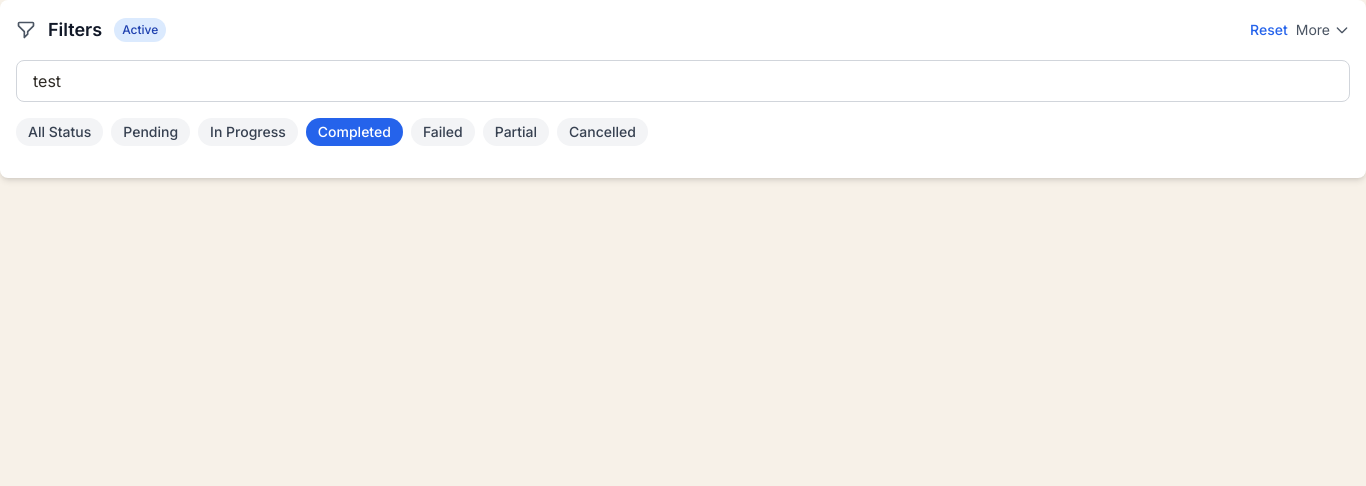
Test: AdvancedJobFilters › Edge Cases › should handle all filters active at once
The image size is (1366, 486).
Expected: the text "Active" is shown, [114,18,166,42]
Expected: the button "Reset" is shown, [1250,20,1288,40]
Click the button "More": (1323, 30) [1296,20,1350,40]
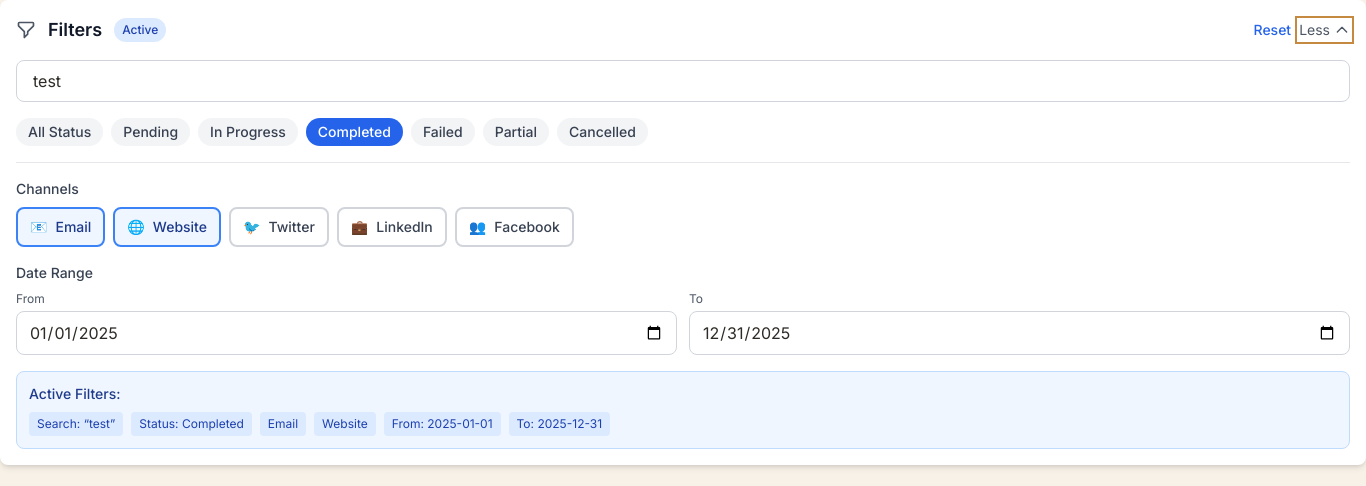
Expected: the text "Active Filters:" shows "test", [89,416,110,431]
Expected: the text "Active Filters:" shows "completed", [182,416,244,431]
